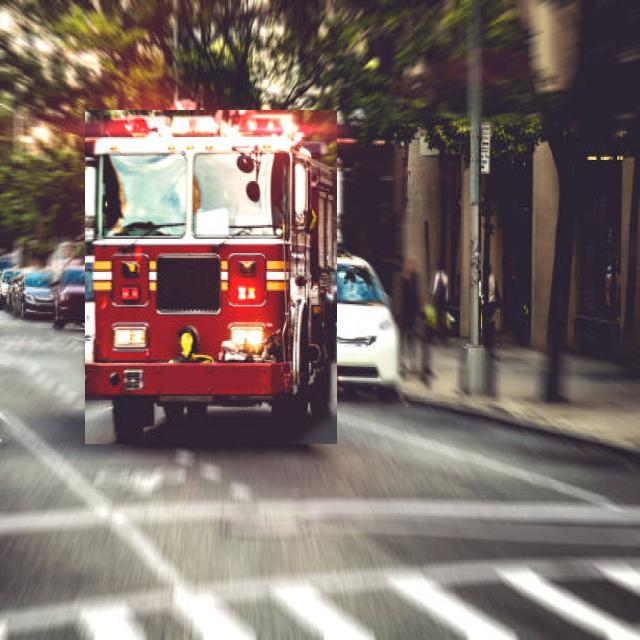emergency: (86, 111, 337, 444)
